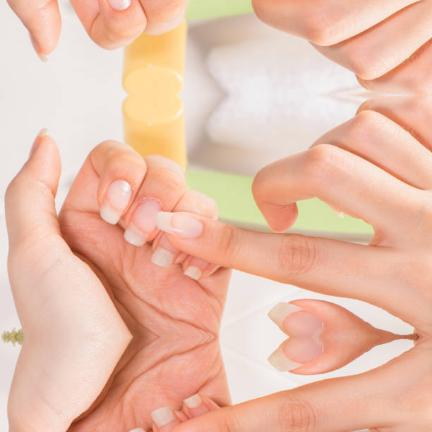Nail: (267, 301, 323, 336), (124, 196, 163, 246), (267, 338, 323, 372), (99, 179, 132, 224), (156, 211, 203, 238), (150, 235, 179, 268), (150, 406, 179, 432), (184, 255, 209, 279), (184, 395, 209, 419), (108, 0, 132, 9), (128, 428, 146, 432)
